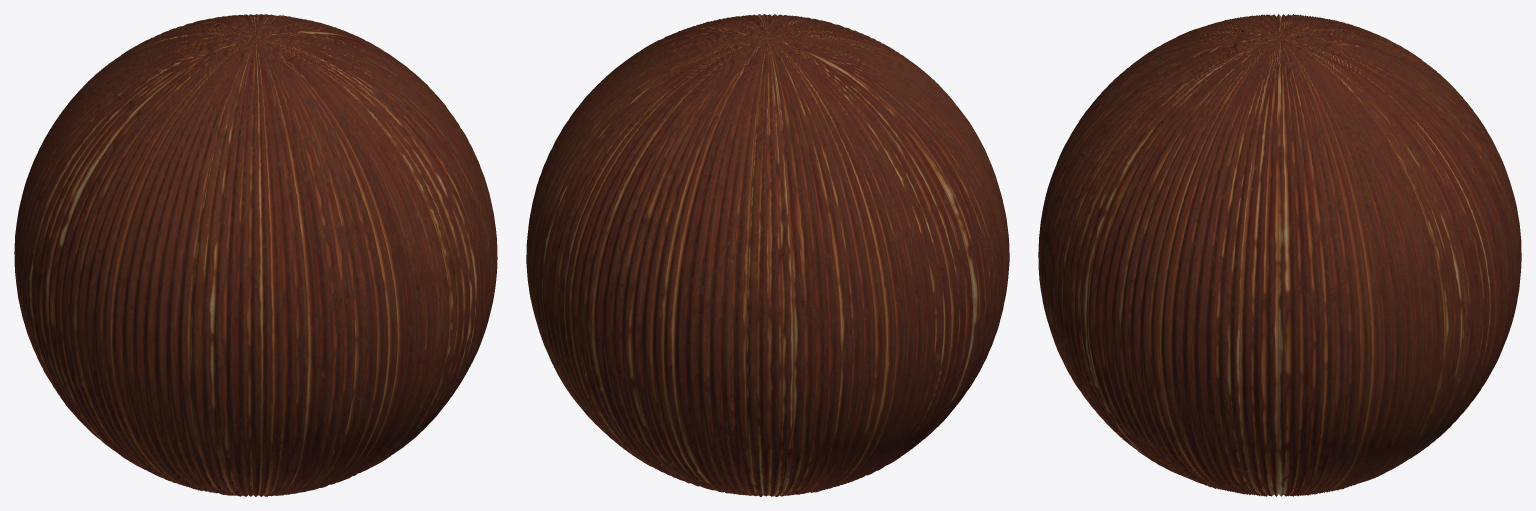
Rendered from rusty_corrugated_iron.glb.
The picture shows the model from 3 angles, left to right: view 1: azimuth 30°, elevation 25°; view 2: azimuth 150°, elevation 25°; view 3: azimuth 270°, elevation 25°; orthographic projection.
Visible parts, largest first — view 1: sphere_gltf; view 2: sphere_gltf; view 3: sphere_gltf.
Part boxes in pixels (box(x1,y1,x2,y2)): sphere_gltf: box(14, 14, 497, 496); sphere_gltf: box(526, 14, 1009, 496); sphere_gltf: box(1038, 14, 1521, 496).
Size of the model in its own units: 2.01 by 2.01 by 2.01.
Materials: 1 (1 with a texture image).
